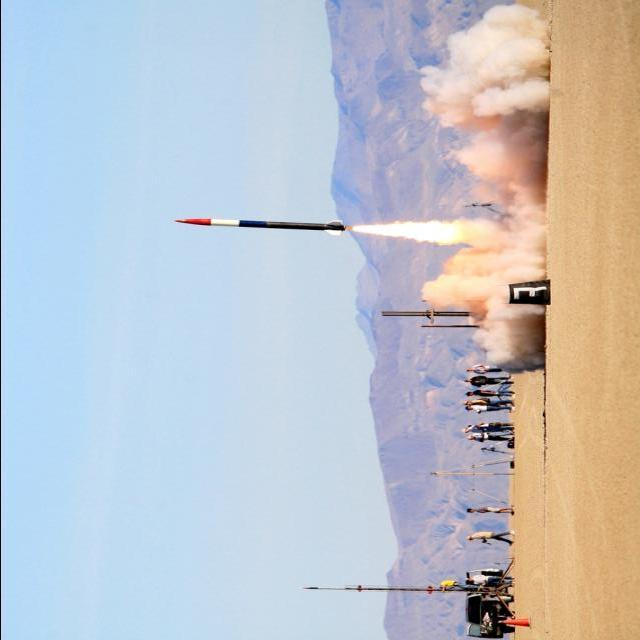missile: (171, 212, 347, 236)
